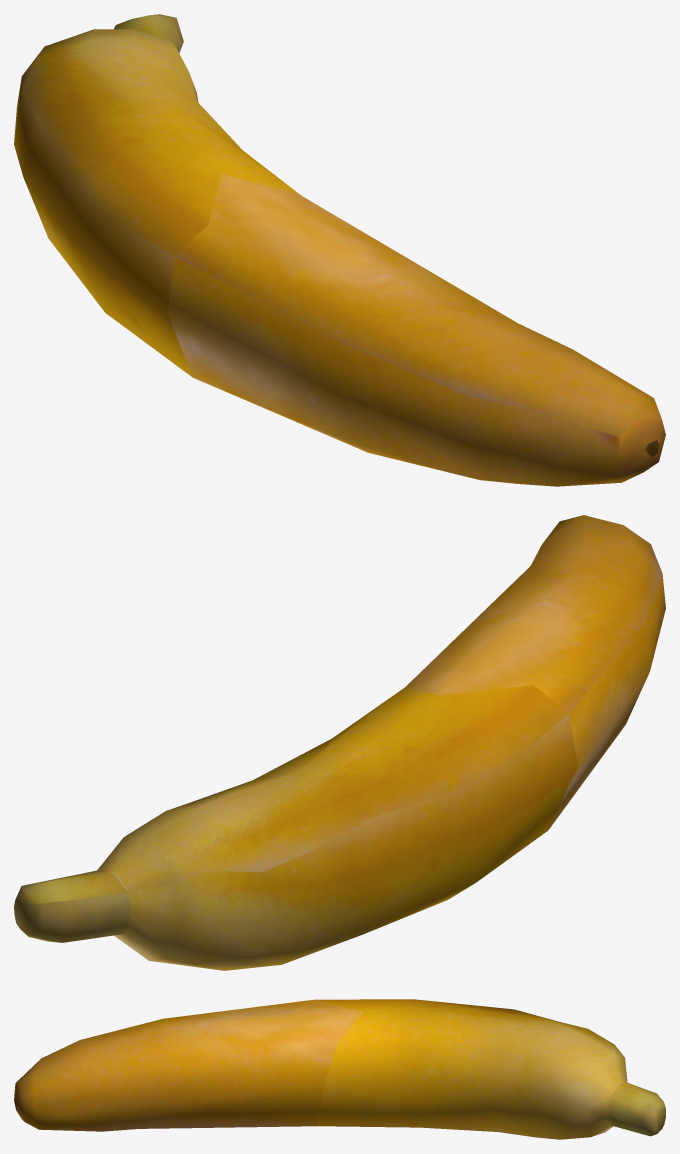
The model's file is banana.dae.
3 views of the same model, one above another, from view 1: azimuth 30°, elevation 25°; view 2: azimuth 150°, elevation 25°; view 3: azimuth 270°, elevation 25° (orthographic). The views are drawn at different scales.
Visible parts, largest first — view 1: banana; view 2: banana; view 3: banana.
Boxes of the visible parts, box(x1,y1,x2,y2) form: banana: box(14, 14, 665, 486); banana: box(14, 515, 665, 970); banana: box(14, 999, 665, 1139).
Size of the model in its own units: 0.0401 by 0.1258 by 0.0227.
Materials: 1 (1 with a texture image).
